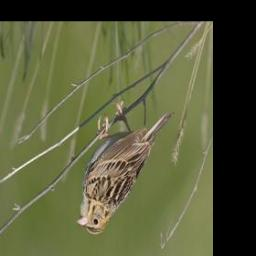Sparrow: (75, 99, 175, 236)
